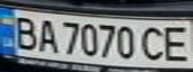0: (115, 22, 139, 61), (78, 20, 100, 57)
7: (57, 19, 81, 56), (97, 21, 118, 59)
A: (33, 16, 60, 53)
B: (9, 13, 42, 51)
C: (139, 24, 172, 62)
E: (160, 22, 193, 64)
